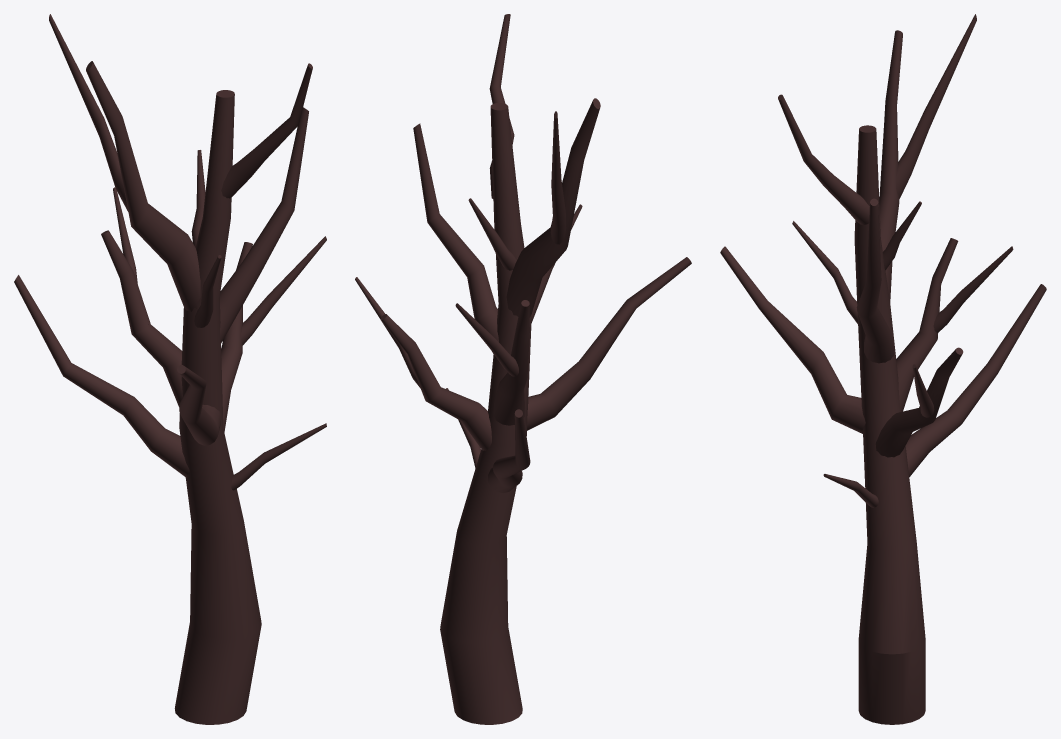
File: deadtrees1.fbx
3 renders of one model, left to right at view 1: azimuth 30°, elevation 25°; view 2: azimuth 150°, elevation 25°; view 3: azimuth 270°, elevation 25°, orthographic. The views are drawn at different scales.
Parts seen in each view (by area): view 1: Dead tree (Low-poly); view 2: Dead tree (Low-poly); view 3: Dead tree (Low-poly).
Boxes of the visible parts, box(x1,y1,x2,y2) form: Dead tree (Low-poly): box(14, 14, 326, 724); Dead tree (Low-poly): box(355, 14, 691, 724); Dead tree (Low-poly): box(720, 14, 1046, 724).
Bounding box in the file's own units: 189 × 497 × 228.
